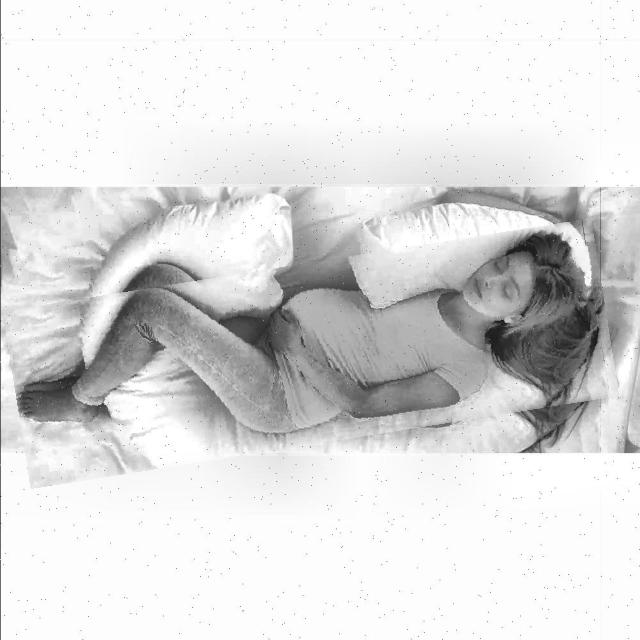Supine: (17, 232, 605, 434)
